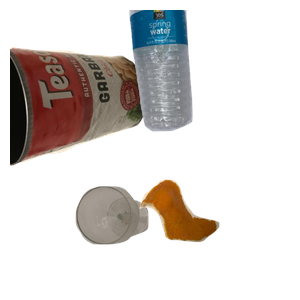glass: (73, 184, 214, 300)
metal: (10, 44, 151, 203)
plastic: (127, 10, 300, 134)
trash: (137, 177, 300, 300)
